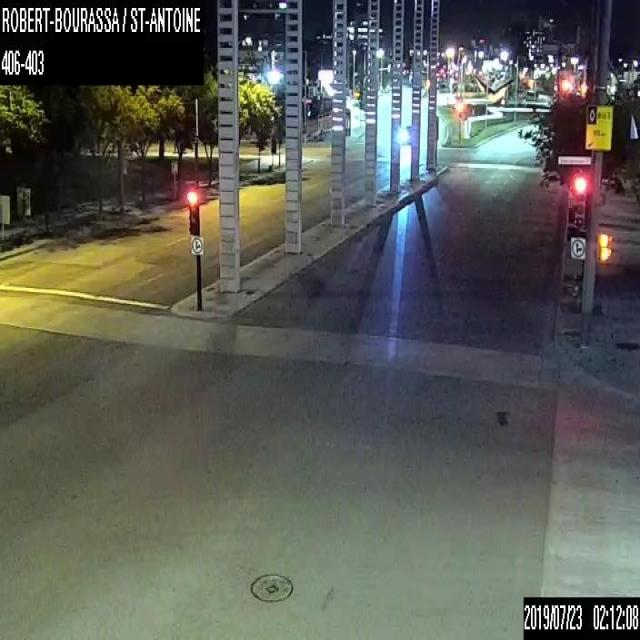vehicle: (399, 121, 410, 144)
